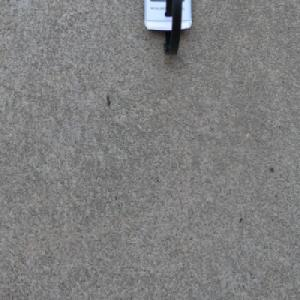LuggageTag: (142, 0, 193, 58)
